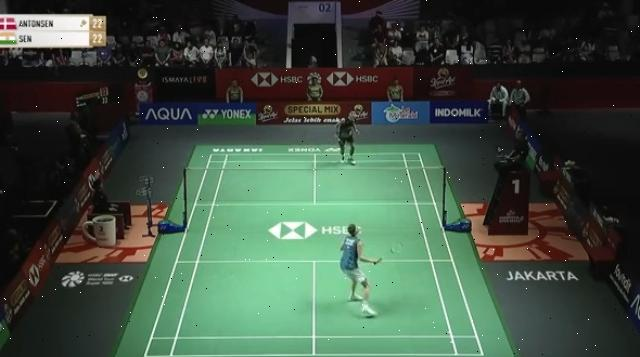Shuttlecock: (397, 25, 408, 34)
